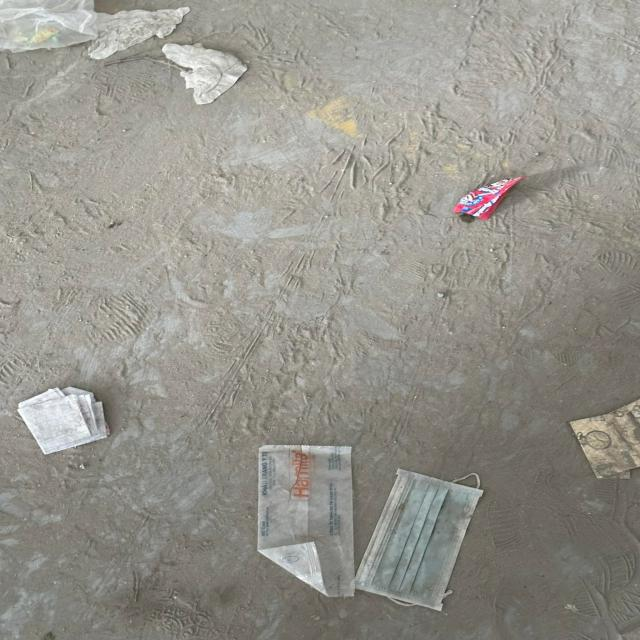bag: (0, 0, 100, 53)
clothes: (17, 386, 111, 456)
mask: (350, 468, 484, 612)
napkin: (87, 6, 192, 59), (162, 41, 248, 105)
packet: (257, 444, 355, 598), (452, 176, 530, 220)
